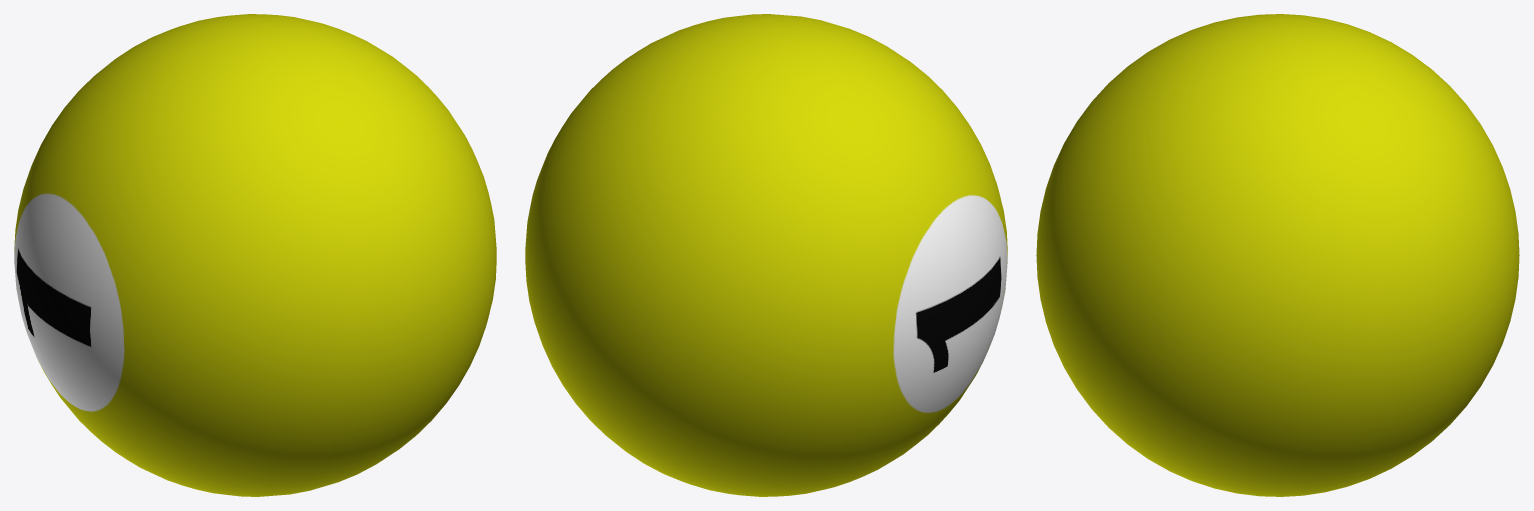
Rendered from Pool Ball.fbx.
3 views of the same model, side by side, from view 1: azimuth 30°, elevation 25°; view 2: azimuth 150°, elevation 25°; view 3: azimuth 270°, elevation 25° (orthographic).
Parts seen in each view (by area): view 1: Body1; view 2: Body1; view 3: Body1.
Part boxes in pixels (box(x1,y1,x2,y2)): Body1: box(14, 14, 496, 496); Body1: box(525, 14, 1007, 496); Body1: box(1036, 14, 1519, 496).
Bounding box in the file's own units: 5.72 × 5.71 × 5.72.
1 material, 1 textured.
